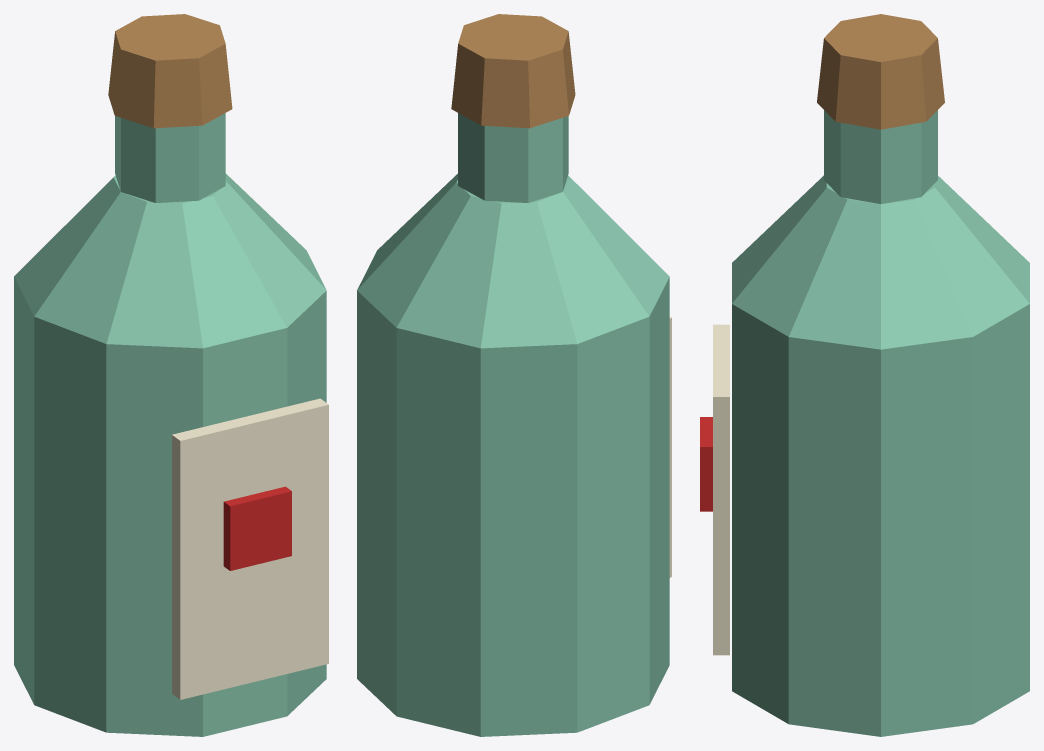
The model's file is message_bottle.obj.
3 renders of one model, left to right at view 1: azimuth 30°, elevation 25°; view 2: azimuth 150°, elevation 25°; view 3: azimuth 270°, elevation 25°, orthographic.
Parts seen in each view (by area): view 1: item; view 2: item; view 3: item.
Part boxes in pixels (bbox=[...]): item: bbox=[14, 14, 328, 736]; item: bbox=[357, 14, 671, 736]; item: bbox=[700, 14, 1029, 736].
Size of the model in its own units: 0.22 by 0.49 by 0.2316.
